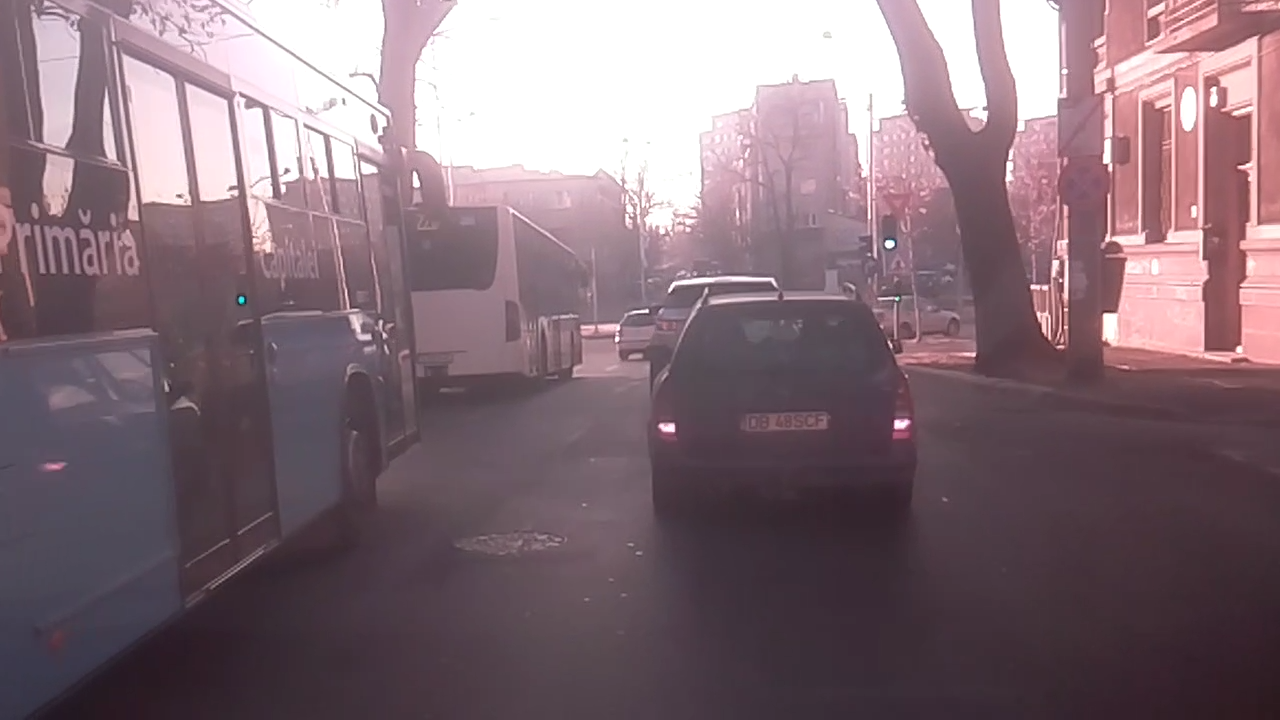license-plate: (736, 407, 834, 436)
